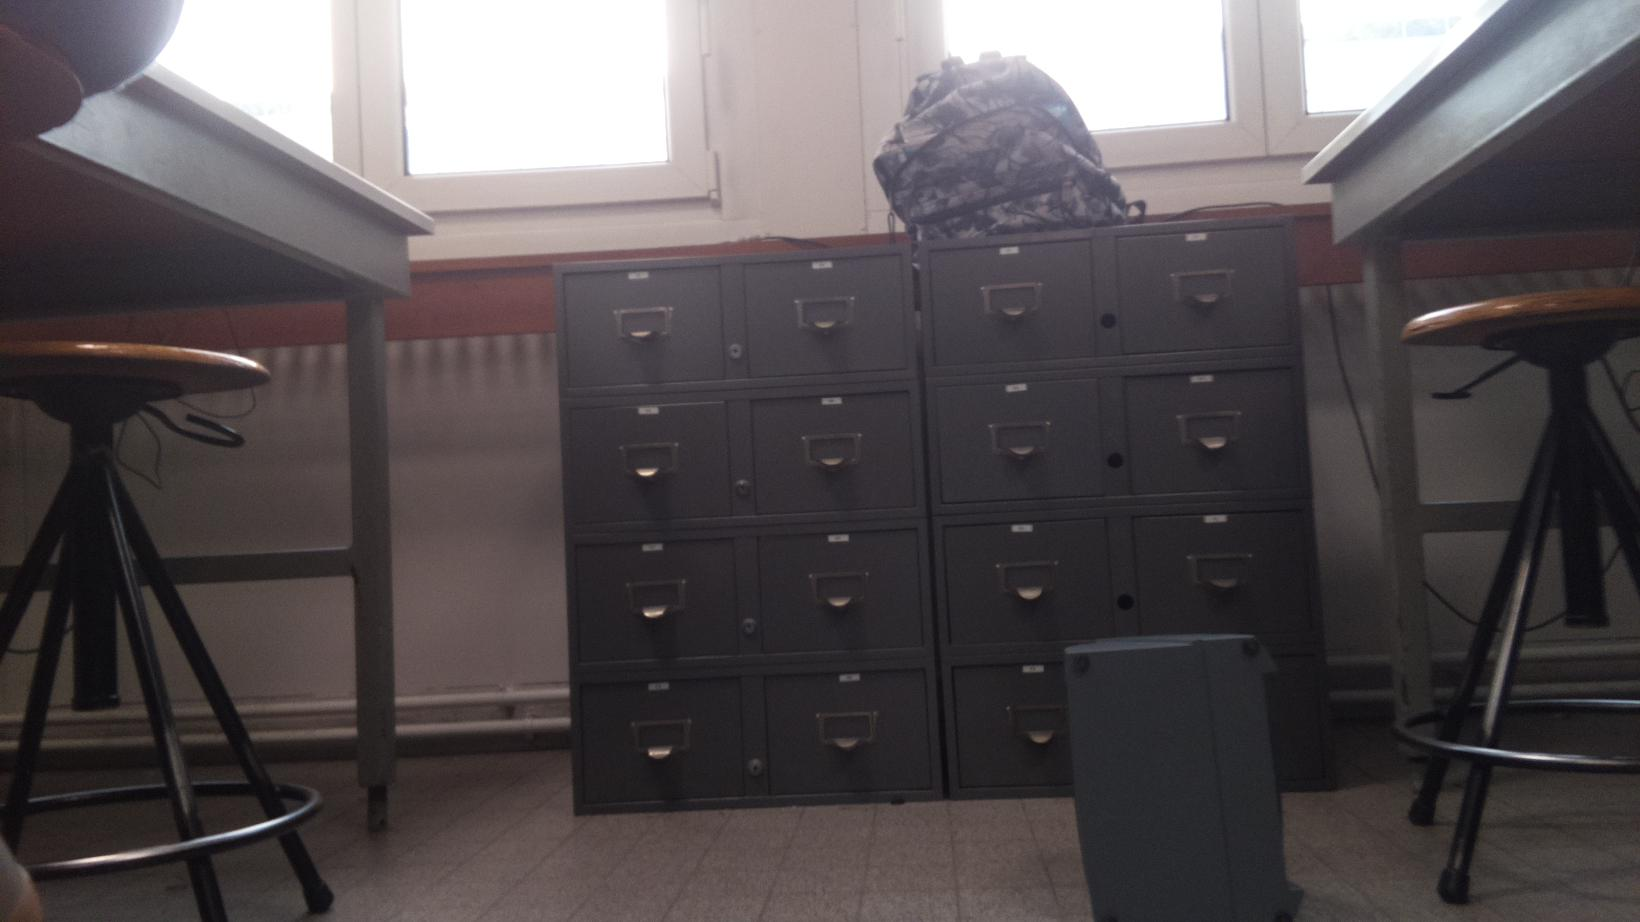big: (873, 52, 1148, 235)
medium: (1059, 625, 1300, 922)
